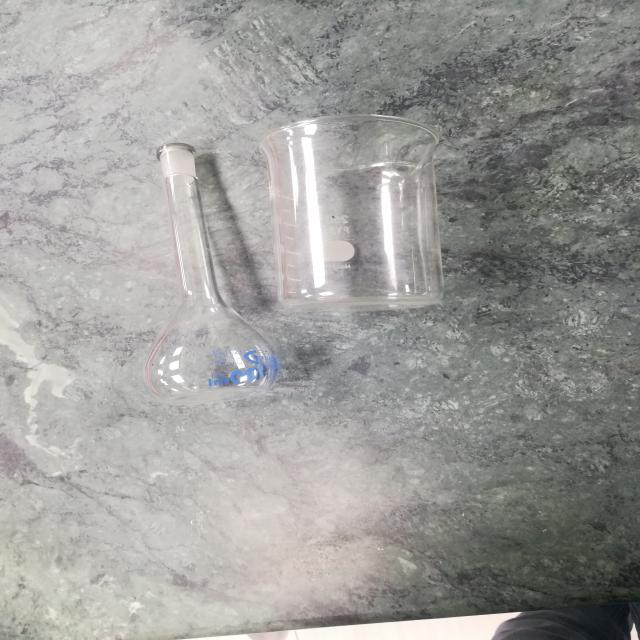Beaker: (263, 107, 487, 324)
Volumetric_Flask: (125, 124, 296, 410)
